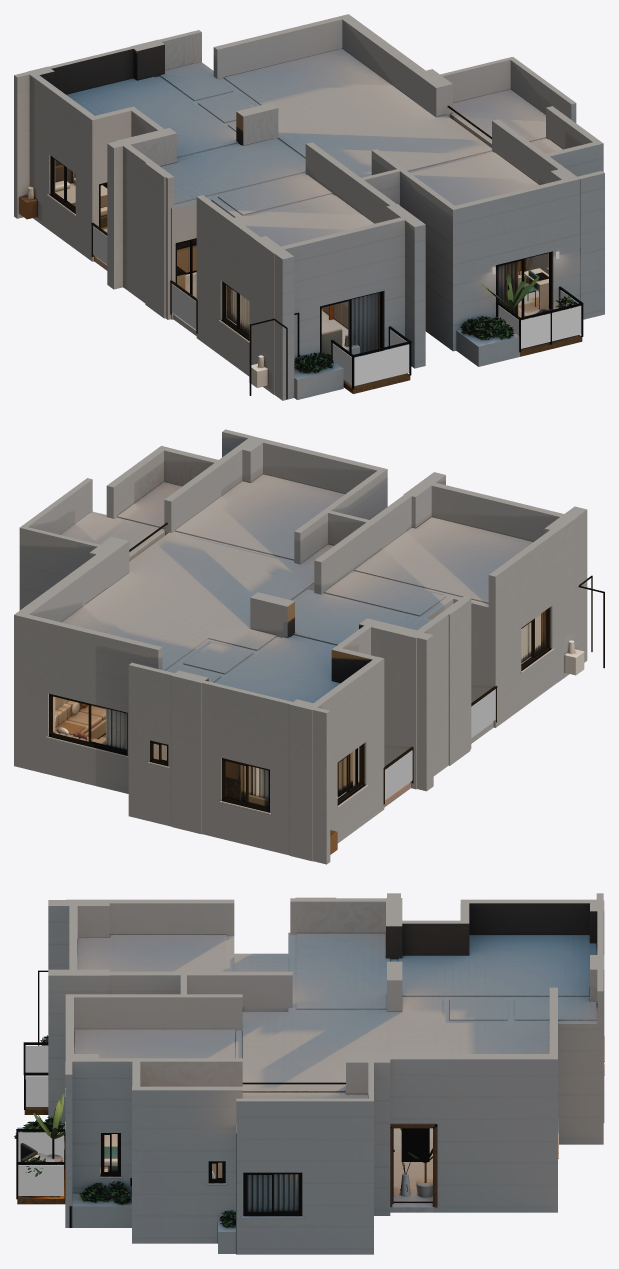
Rendered from linden.glb.
3 renders of one model, top to bottom at view 1: azimuth 30°, elevation 25°; view 2: azimuth 150°, elevation 25°; view 3: azimuth 270°, elevation 25°, orthographic. The views are drawn at different scales.
Visible parts, largest first — view 1: LM_shell, LM_ceilings, LM_openings, LM_rooms, Glass, LM_patio, LM_floors, LM_kitchen; view 2: LM_shell, LM_ceilings, LM_openings, LM_rooms, LM_living, Glass; view 3: LM_shell, LM_ceilings, LM_openings, Glass, LM_floors, LM_patio, LM_dining, LM_living, LM_rooms.
Part boxes in pixels (x1,y1,x2,y2): LM_shell: (14, 14, 604, 400); LM_ceilings: (66, 48, 562, 246); LM_openings: (47, 106, 583, 399); LM_rooms: (19, 164, 559, 399); Glass: (93, 226, 581, 385); LM_patio: (294, 273, 576, 373); LM_floors: (94, 226, 582, 393); LM_kitchen: (177, 239, 196, 289); LM_shell: (14, 429, 587, 864); LM_ceilings: (60, 474, 533, 703); LM_openings: (46, 522, 553, 814); LM_rooms: (225, 575, 604, 854); LM_living: (53, 696, 126, 749); Glass: (385, 689, 495, 800); LM_shell: (48, 893, 604, 1254); LM_ceilings: (74, 933, 596, 1098); LM_openings: (16, 1036, 604, 1253); Glass: (18, 1045, 63, 1196); LM_floors: (17, 1079, 434, 1212); LM_patio: (14, 1035, 235, 1227); LM_dining: (246, 1174, 298, 1211); LM_living: (400, 1128, 432, 1197); LM_rooms: (38, 970, 214, 1186).
Size of what is drawn, in the model's own units: 12.62 by 4.2 by 14.66.
10 materials, 9 textured.
